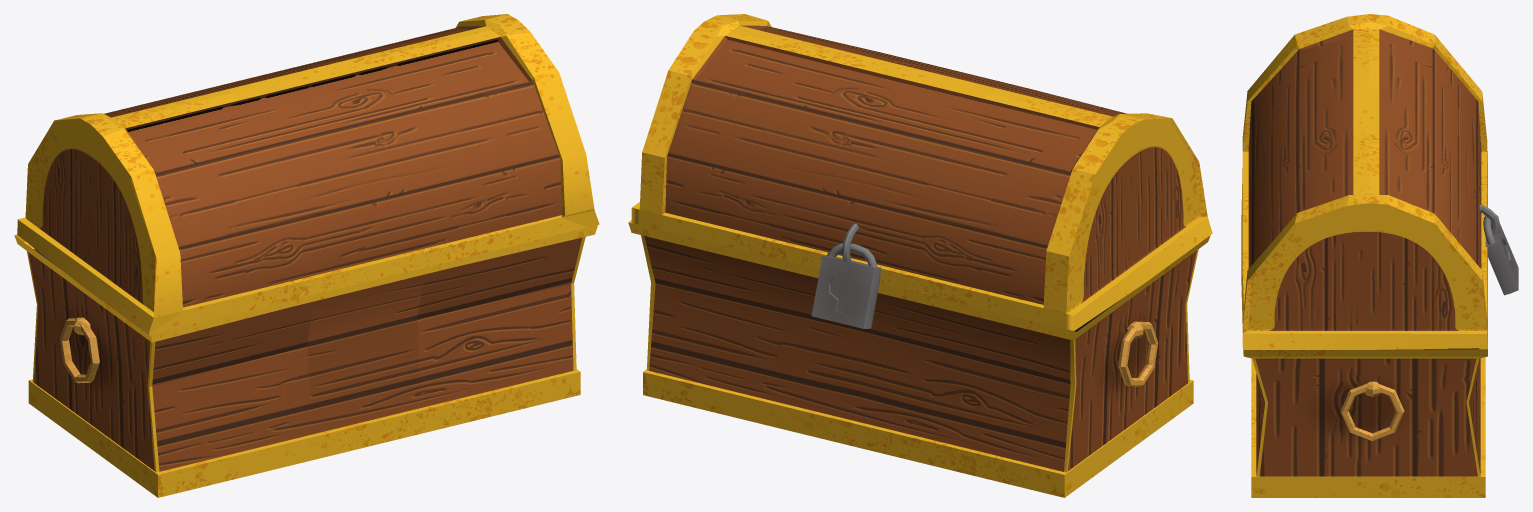
The model's file is model_Chest.fbx.
The picture shows the model from 3 angles, left to right: view 1: azimuth 30°, elevation 25°; view 2: azimuth 150°, elevation 25°; view 3: azimuth 270°, elevation 25°; orthographic projection. The views are drawn at different scales.
Parts seen in each view (by area): view 1: polySurface9; view 2: polySurface9, polySurface5; view 3: polySurface9, polySurface5.
Boxes of the visible parts, x1,y1,x2,y2 form: polySurface9: (14,14,599,497); polySurface9: (628,14,1212,497); polySurface5: (811,243,881,328); polySurface9: (1241,14,1500,497); polySurface5: (1483,216,1518,295).
Size of the model in its own units: 59.43 by 40.69 by 34.52.
